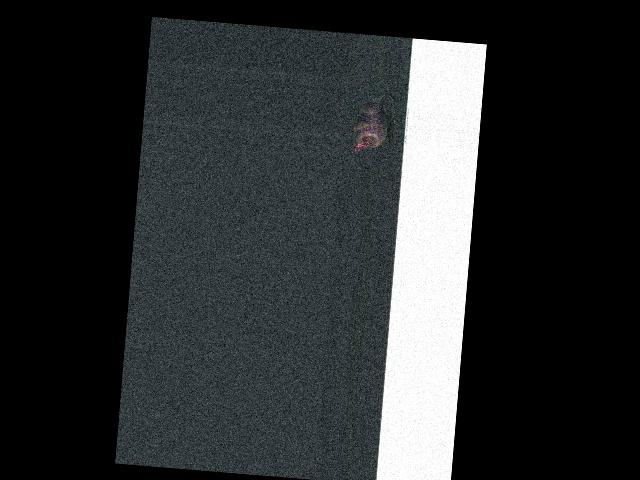beet: (351, 91, 397, 157)
